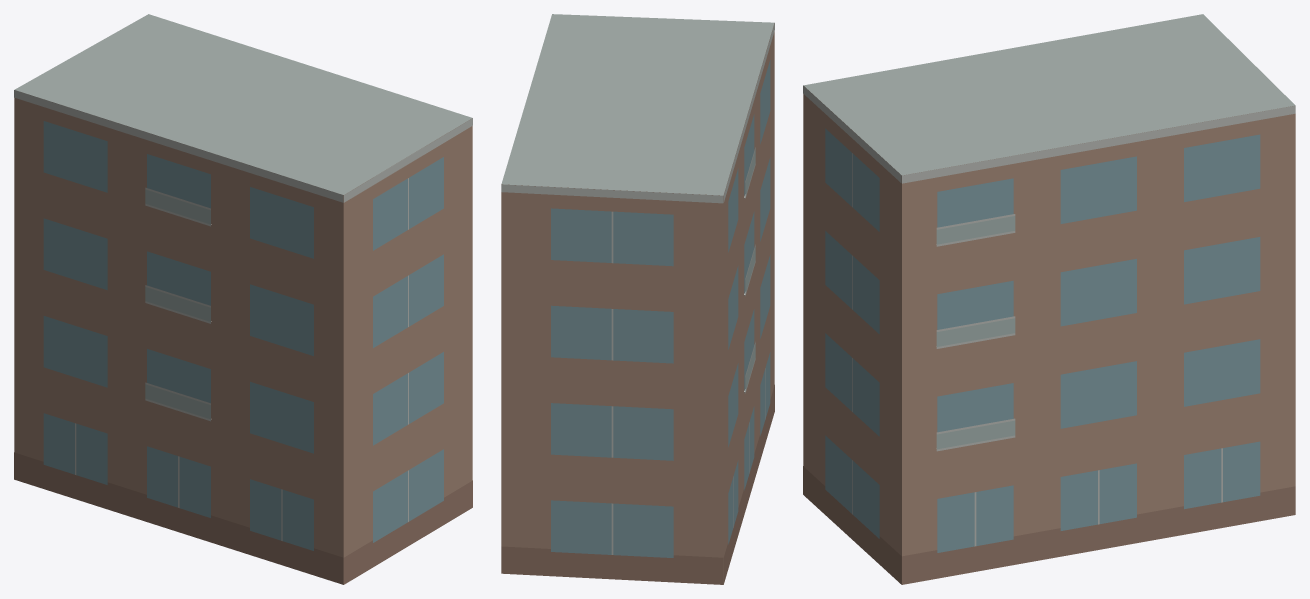
File: survey-upis-32701732.glb
The picture shows the model from 3 angles, left to right: view 1: azimuth 30°, elevation 25°; view 2: azimuth 150°, elevation 25°; view 3: azimuth 270°, elevation 25°; orthographic projection. The views are drawn at different scales.
Visible parts, largest first — view 1: survey-upis-32701732.tmp; view 2: survey-upis-32701732.tmp; view 3: survey-upis-32701732.tmp.
Part boxes in pixels (left/top/right/bottom): survey-upis-32701732.tmp: left=14, top=14, right=472, bottom=584; survey-upis-32701732.tmp: left=501, top=14, right=774, bottom=584; survey-upis-32701732.tmp: left=803, top=14, right=1295, bottom=584.
Size of the model in its own units: 10.33 by 12.2 by 13.31.
